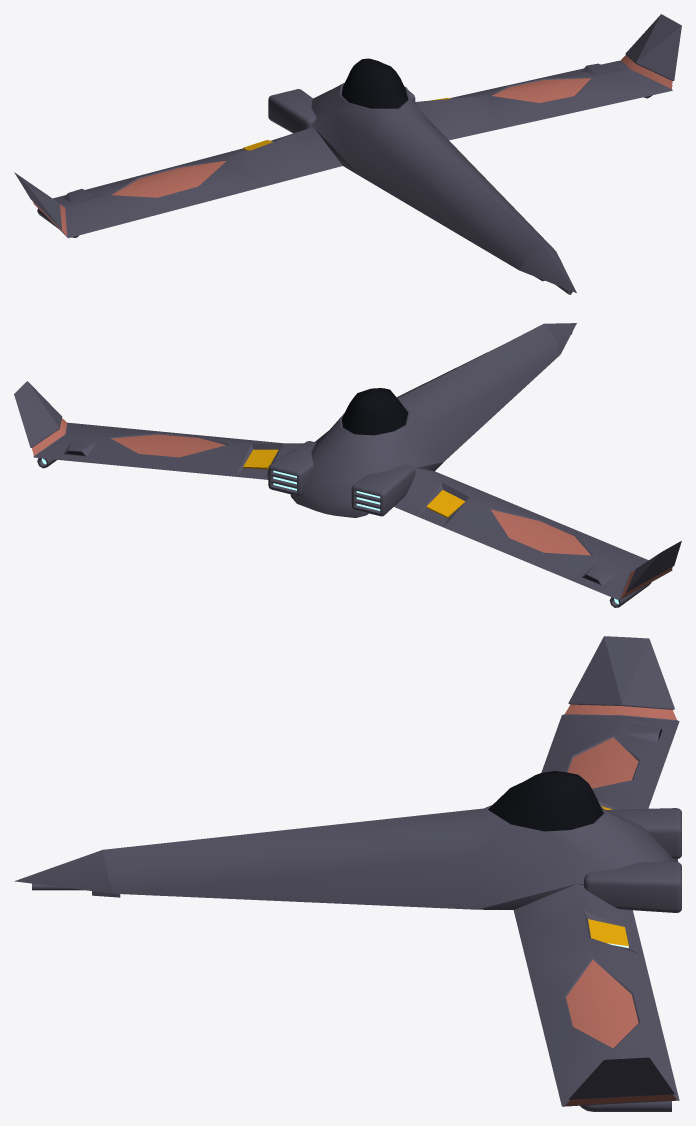
File: spaceship1.fbx
The picture shows the model from 3 angles, top to bottom: view 1: azimuth 30°, elevation 25°; view 2: azimuth 150°, elevation 25°; view 3: azimuth 270°, elevation 25°; orthographic projection. The views are drawn at different scales.
Parts seen in each view (by area): view 1: ship1; view 2: ship1; view 3: ship1.
Boxes of the visible parts, x1,y1,x2,y2 form: ship1: (14, 14, 681, 294); ship1: (14, 323, 681, 607); ship1: (14, 636, 681, 1111).
Size of the model in its own units: 8.93 by 1.49 by 5.95.
